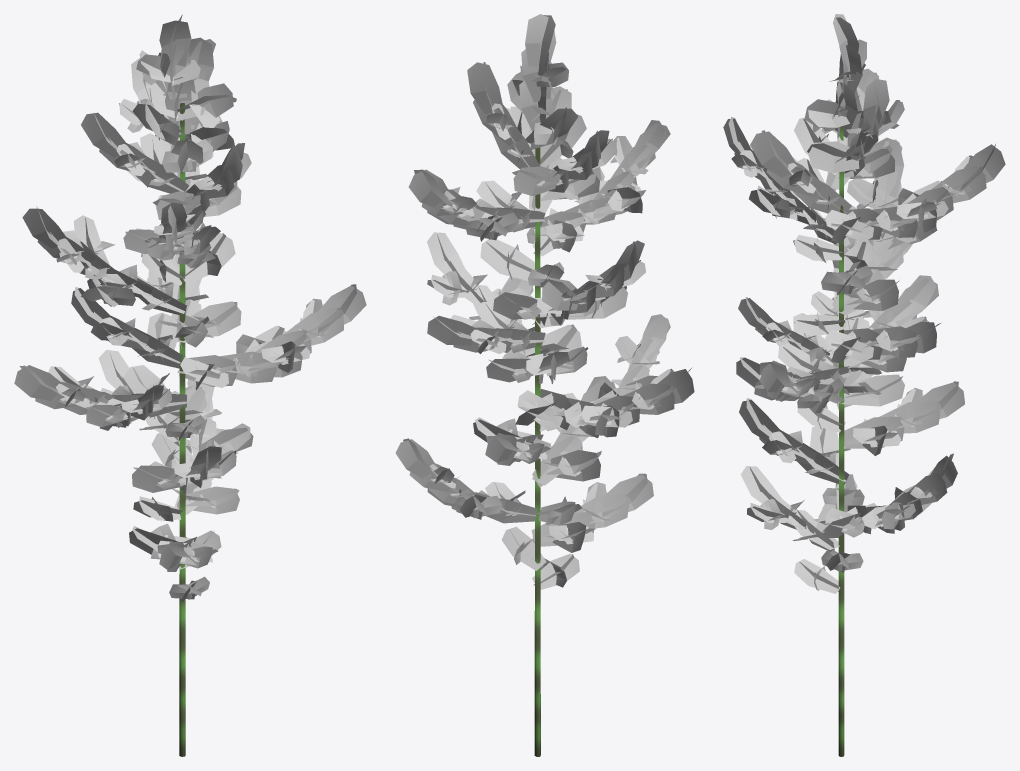
Rendered from Pine_S.B.Z1.fbx.
The picture shows the model from 3 angles, left to right: view 1: azimuth 30°, elevation 25°; view 2: azimuth 150°, elevation 25°; view 3: azimuth 270°, elevation 25°; orthographic projection.
Parts seen in each view (by area): view 1: pPlane831; view 2: pPlane831; view 3: pPlane831.
Boxes of the visible parts, x1,y1,x2,y2 form: pPlane831: [14, 14, 366, 756]; pPlane831: [395, 14, 694, 756]; pPlane831: [723, 14, 1005, 756].
Size of the model in its own units: 205 by 476 by 165.
